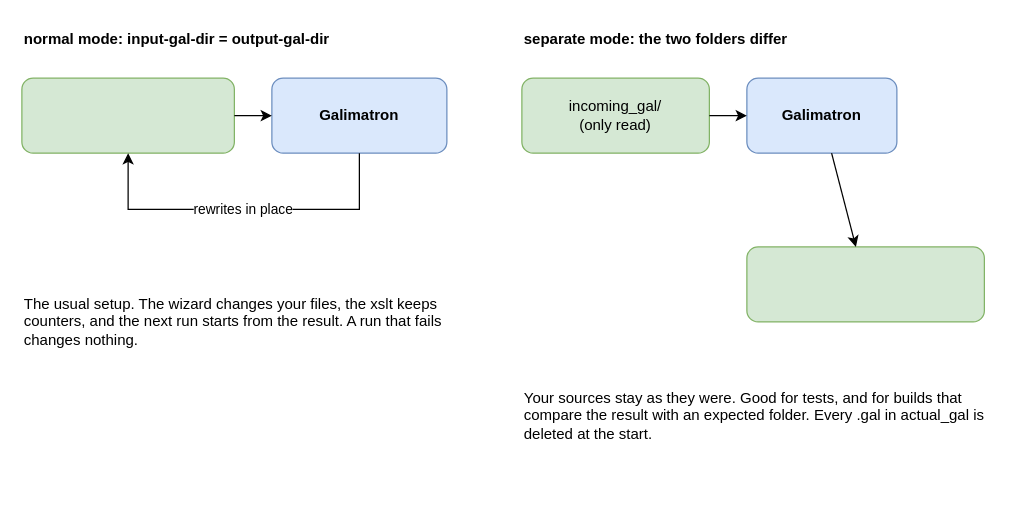
The diagram is 1019 pixels wide and 505 high, and some of its shapes have lost their labels. Each missing label, with the box of its shape:
actual_gal/ (emptied, then written): (746, 246, 984, 322)
incoming_gal/ (you edit here): (21, 77, 234, 153)
